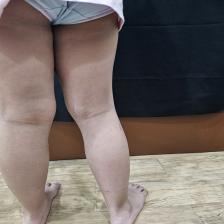DA: (70, 88, 122, 142), (1, 88, 54, 138)
